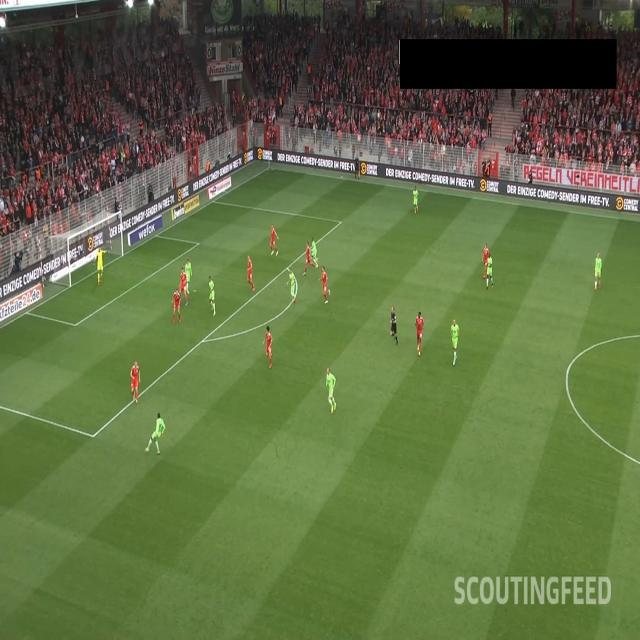ball: (144, 444, 150, 454)
